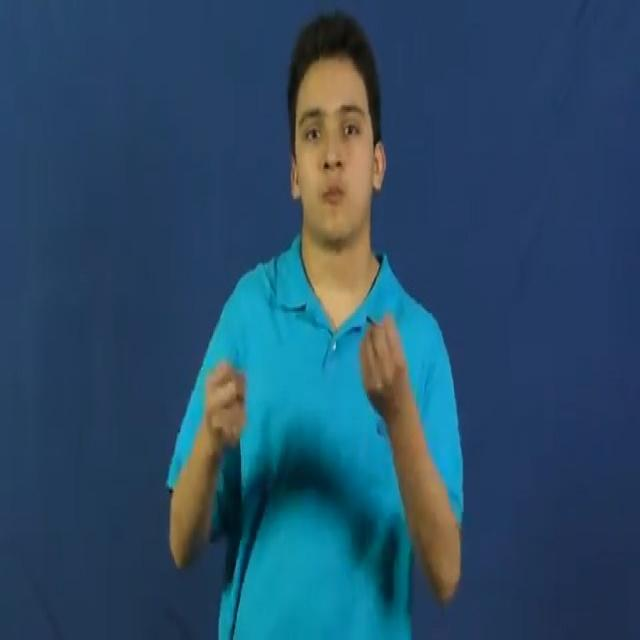drive: (192, 296, 434, 499)
